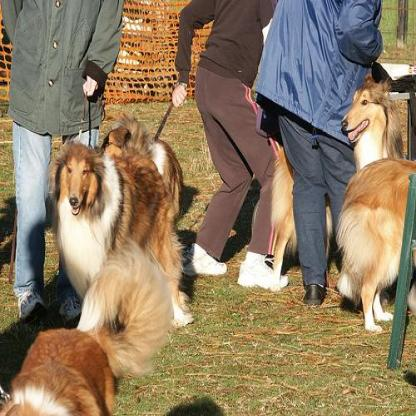collie: (49, 115, 196, 332), (0, 239, 181, 413), (52, 116, 194, 326), (340, 71, 414, 321), (334, 155, 414, 333), (260, 138, 334, 286)
